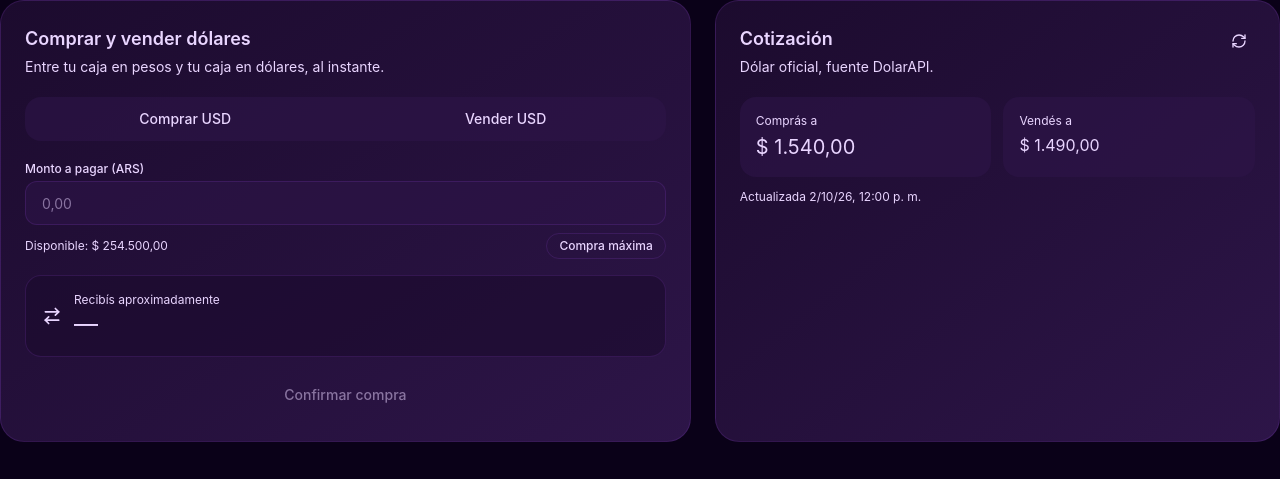
compra y venta máxima › avisa si el monto escrito supera el saldo
Step 1. Type "999.999" into the field with placeholder "0,00" → (345, 203), box [25, 181, 666, 225]
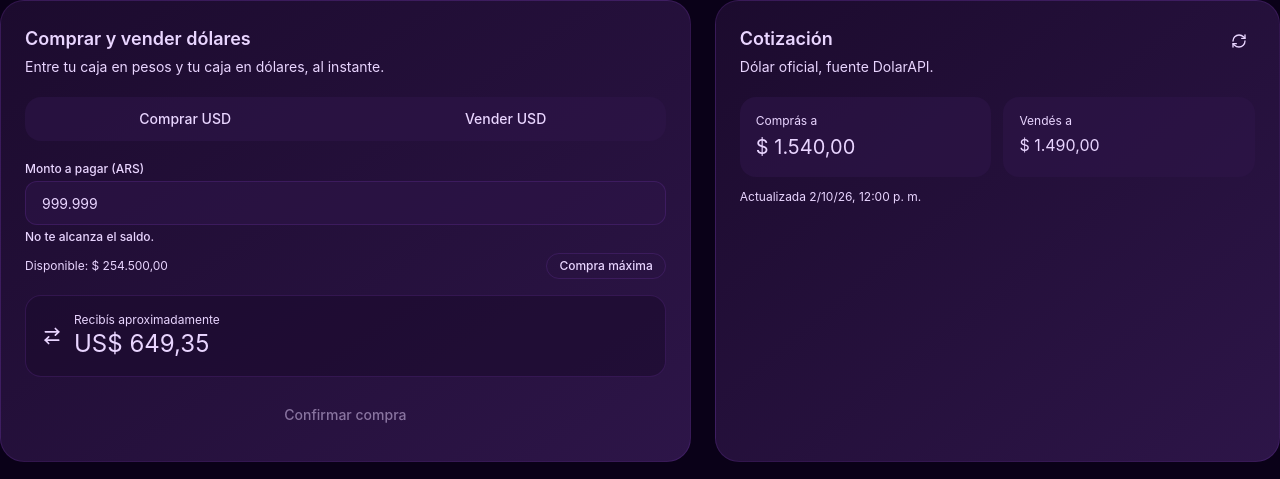
Check: the text "No te alcanza el saldo." is shown, box [25, 229, 154, 244]
